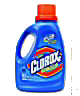grozi_14: (15, 4, 66, 92)
